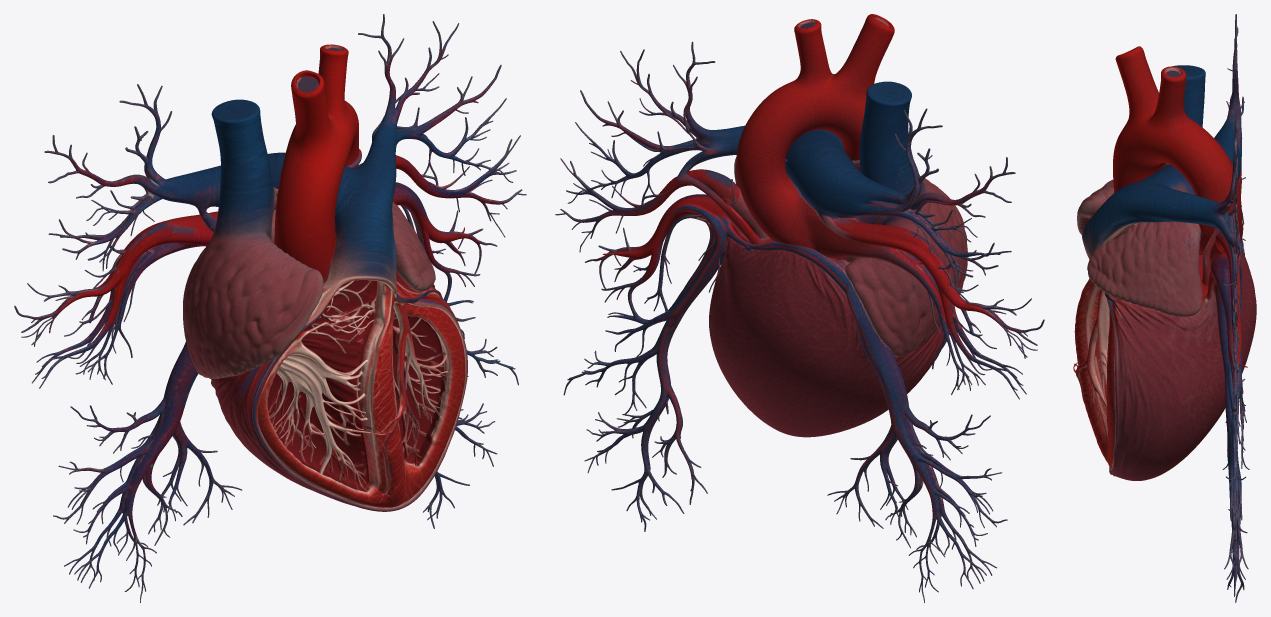
File: heart2.glb
3 renders of one model, left to right at view 1: azimuth 30°, elevation 25°; view 2: azimuth 150°, elevation 25°; view 3: azimuth 270°, elevation 25°, orthographic. The views are drawn at different scales.
Size of the model in its own units: 1.87 by 1.9 by 0.6613.
1 material, 1 textured.
